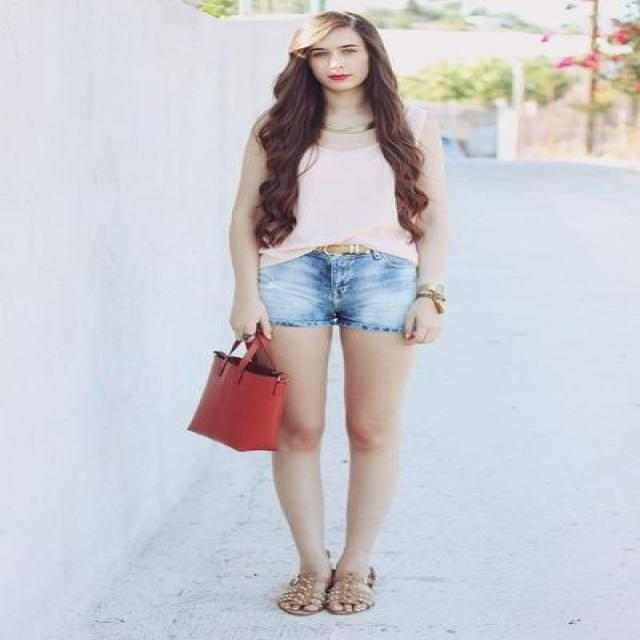bag: (187, 321, 301, 451)
shirt: (259, 146, 410, 265)
shoe: (274, 563, 379, 616)
shorts: (264, 243, 414, 334)
